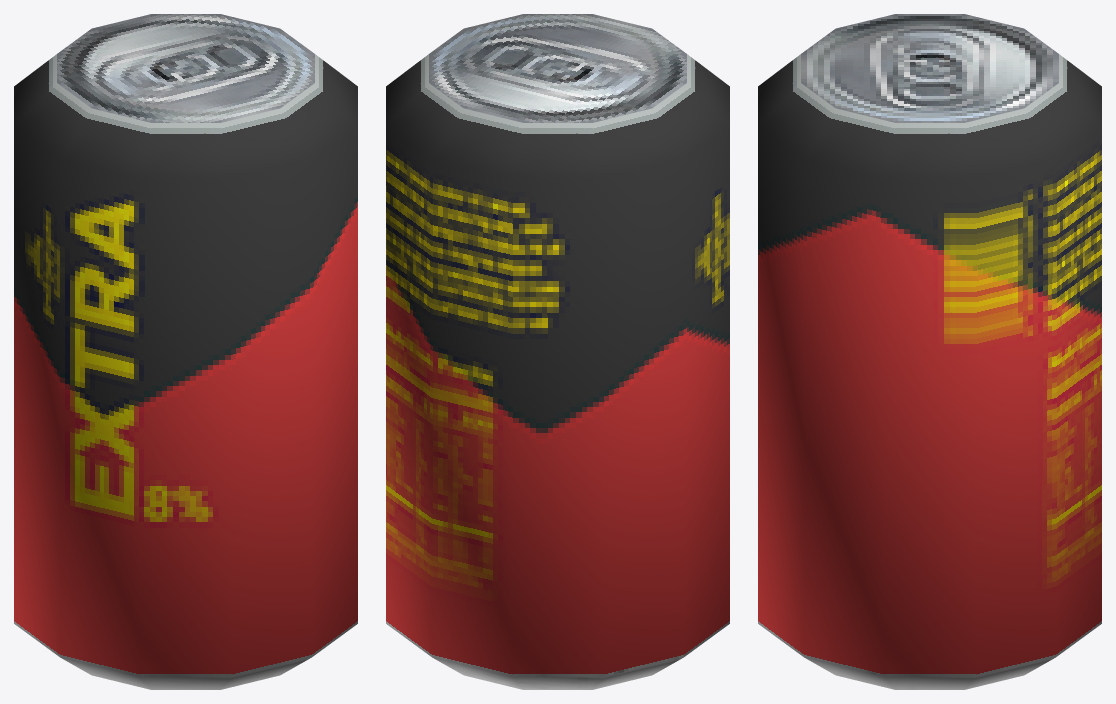
File: beer.glb
3 views of the same model, side by side, from view 1: azimuth 30°, elevation 25°; view 2: azimuth 150°, elevation 25°; view 3: azimuth 270°, elevation 25° (orthographic).
Visible parts, largest first — view 1: cylinder; view 2: cylinder; view 3: cylinder.
Part boxes in pixels (x1,y1,x2,y2): cylinder: (14, 14, 357, 689); cylinder: (386, 14, 729, 689); cylinder: (758, 14, 1101, 689).
Size of the model in its own units: 0.3125 by 0.5687 by 0.3125.
Materials: 1 (1 with a texture image).
